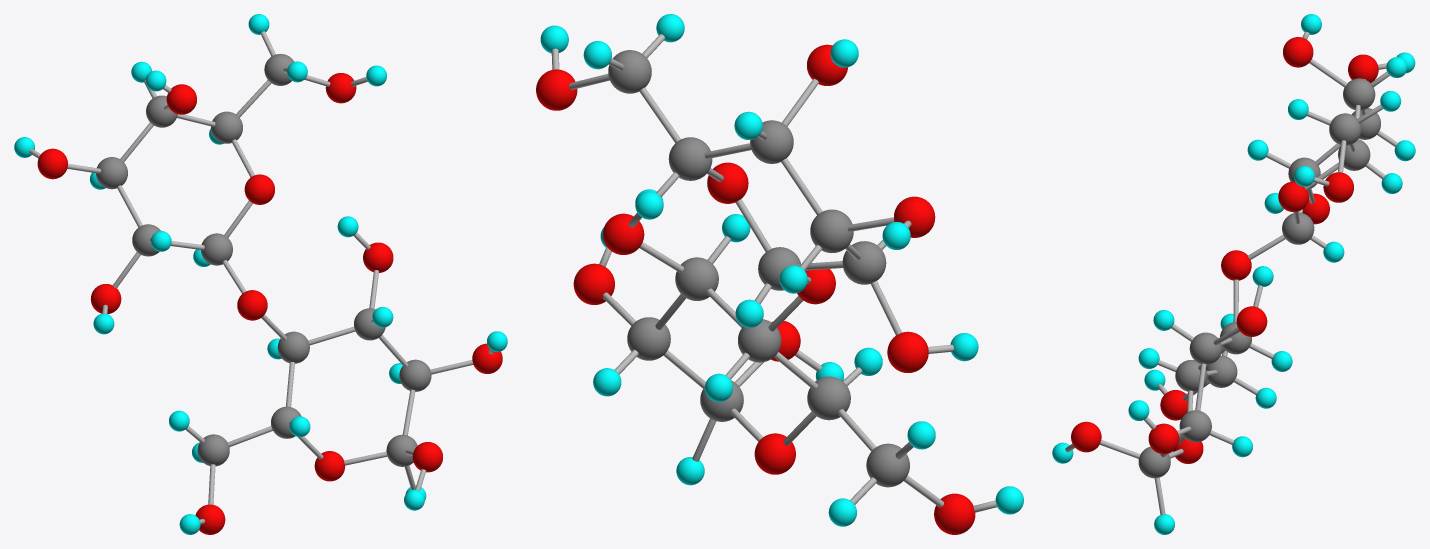
Rendered from α-lactose.glb.
3 renders of one model, left to right at view 1: azimuth 30°, elevation 25°; view 2: azimuth 150°, elevation 25°; view 3: azimuth 270°, elevation 25°, orthographic. The views are drawn at different scales.
Parts seen in each view (by area): view 1: CMAtom_23, CMAtom_19, CMAtom_14, CMAtom_2, CMAtom_16, CMAtom_21, CMAtom_42, CMAtom_38, CMAtom_40, CMAtom_41, CMAtom_18, CMAtom_13 (+11 smaller); view 2: CMAtom_16, CMAtom_2, CMAtom_22, CMAtom_20, CMAtom_23, CMAtom_3, CMAtom_19, CMAtom_15, CMAtom_17, CMAtom_39, CMAtom_21, CMAtom_44 (+29 smaller); view 3: CMAtom_3, CMAtom_17, CMAtom_20, CMAtom_19, CMAtom_14, CMAtom_10, CMAtom_13, CMAtom_1, CMAtom_41, CMAtom_38, CMAtom_18, CMAtom_9 (+10 smaller).
Part boxes in pixels (<box>): CMAtom_23: <box>197,434,229,466</box>; CMAtom_19: <box>399,359,431,391</box>; CMAtom_14: <box>201,233,232,265</box>; CMAtom_2: <box>211,111,242,143</box>; CMAtom_16: <box>96,157,127,189</box>; CMAtom_21: <box>277,331,309,363</box>; CMAtom_42: <box>244,174,274,204</box>; CMAtom_38: <box>237,290,267,320</box>; CMAtom_40: <box>37,148,67,179</box>; CMAtom_41: <box>166,84,196,114</box>; CMAtom_18: <box>386,434,417,466</box>; CMAtom_13: <box>412,442,442,472</box>; CMAtom_16: <box>810,209,853,252</box>; CMAtom_2: <box>668,137,712,180</box>; CMAtom_22: <box>807,376,850,420</box>; CMAtom_20: <box>675,257,718,300</box>; CMAtom_23: <box>866,443,909,487</box>; CMAtom_3: <box>608,50,651,93</box>; CMAtom_19: <box>627,317,670,360</box>; CMAtom_15: <box>842,241,886,284</box>; CMAtom_17: <box>750,120,793,163</box>; CMAtom_39: <box>887,331,928,372</box>; CMAtom_21: <box>738,319,781,362</box>; CMAtom_44: <box>934,493,975,534</box>; CMAtom_3: <box>1329,113,1361,145</box>; CMAtom_17: <box>1343,78,1375,110</box>; CMAtom_20: <box>1189,332,1221,364</box>; CMAtom_19: <box>1179,410,1211,442</box>; CMAtom_14: <box>1282,212,1314,244</box>; CMAtom_10: <box>1236,306,1267,336</box>; CMAtom_13: <box>1071,421,1101,452</box>; CMAtom_1: <box>1148,423,1179,454</box>; CMAtom_41: <box>1283,37,1313,67</box>; CMAtom_38: <box>1221,250,1251,280</box>; CMAtom_18: <box>1138,446,1170,478</box>; CMAtom_9: <box>1323,172,1353,202</box>.
Bounding box in the file's own units: 8.07 × 9 × 6.93.
